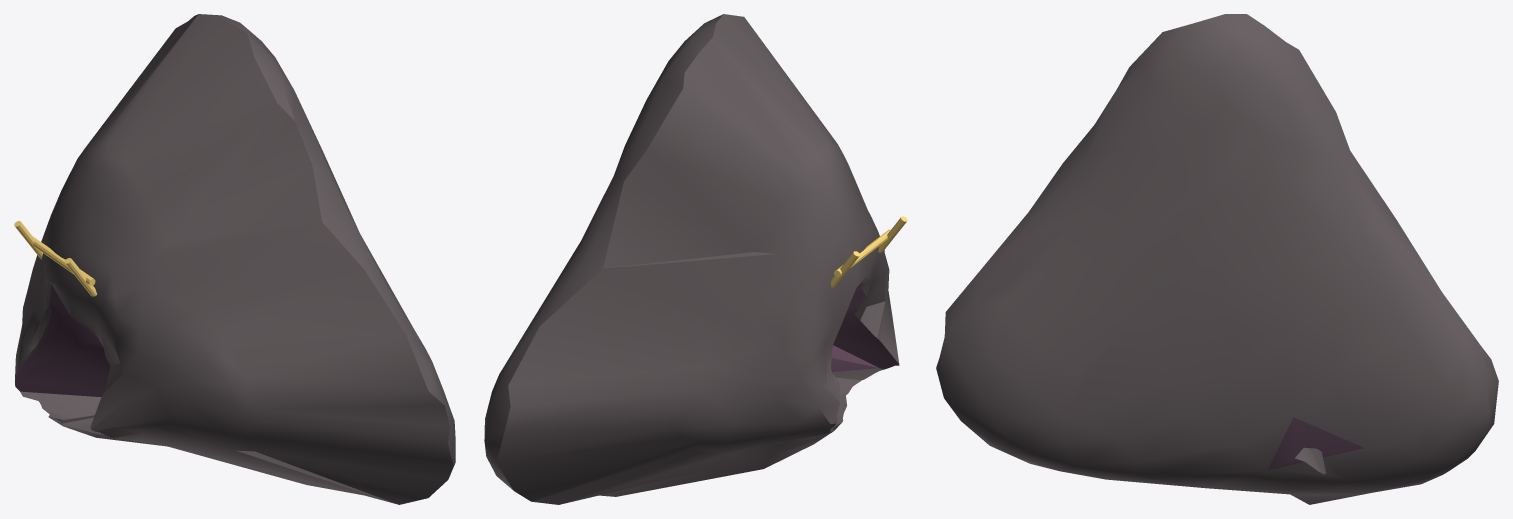
The model's file is Cave.fbx.
The picture shows the model from 3 angles, left to right: view 1: azimuth 30°, elevation 25°; view 2: azimuth 150°, elevation 25°; view 3: azimuth 270°, elevation 25°; orthographic projection. The views are drawn at different scales.
Visible parts, largest first — view 1: rock.063; view 2: rock.063; view 3: rock.063.
Boxes of the visible parts, bbox=[...] form: rock.063: bbox=[15, 14, 455, 504]; rock.063: bbox=[484, 14, 899, 504]; rock.063: bbox=[936, 14, 1498, 504].
Size of the model in its own units: 1277 by 1940 by 2141.
